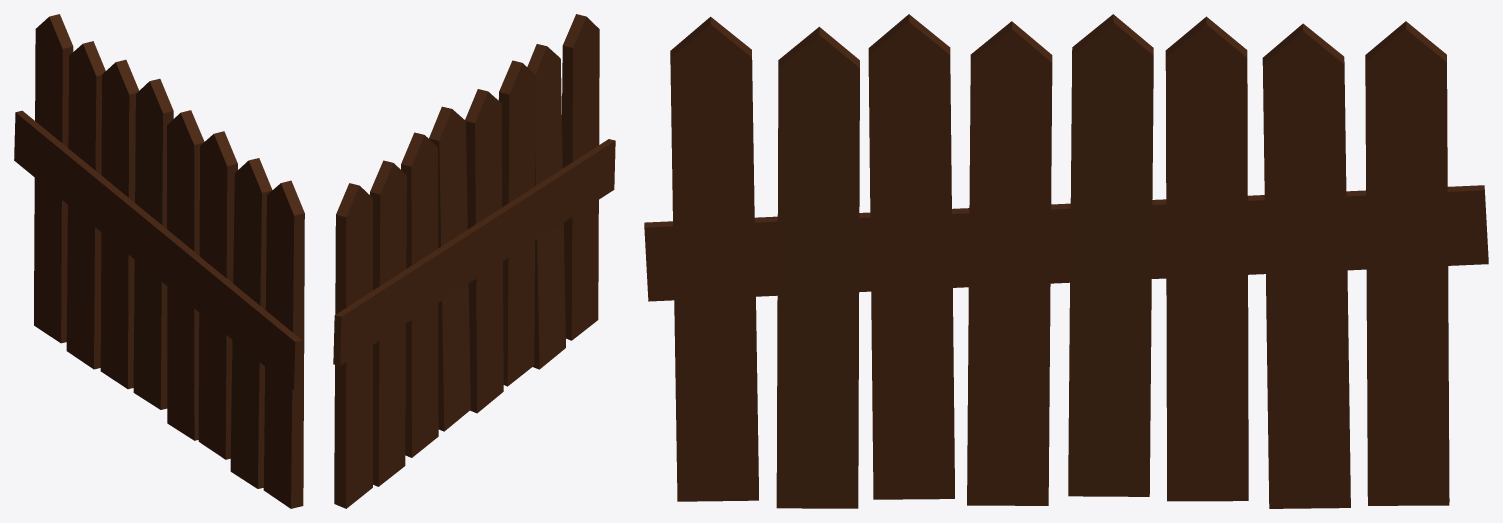
The model's file is fence.glb.
3 renders of one model, left to right at view 1: azimuth 30°, elevation 25°; view 2: azimuth 150°, elevation 25°; view 3: azimuth 270°, elevation 25°, orthographic. The views are drawn at different scales.
Visible parts, largest first — view 1: Cube.008, Cube, Cube.002, Cube.005, Cube.007, Cube.006, Cube.001, Cube.004, Cube.003; view 2: Cube.008, Cube.007, Cube, Cube.003, Cube.006, Cube.005, Cube.002, Cube.004, Cube.001; view 3: Cube.002, Cube.006, Cube, Cube.007, Cube.003, Cube.005, Cube.004, Cube.001, Cube.008.
Part boxes in pixels (left/top/right/bottom): Cube.008: left=14, top=110, right=302, bottom=389; Cube: left=263, top=180, right=304, bottom=508; Cube.002: left=198, top=131, right=237, bottom=459; Cube.005: left=100, top=59, right=139, bottom=389; Cube.007: left=34, top=14, right=73, bottom=343; Cube.006: left=66, top=41, right=105, bottom=369; Cube.001: left=230, top=158, right=272, bottom=488; Cube.004: left=133, top=78, right=173, bottom=409; Cube.003: left=167, top=110, right=204, bottom=440; Cube.008: left=333, top=139, right=615, bottom=365; Cube.007: left=334, top=183, right=372, bottom=508; Cube: left=562, top=14, right=599, bottom=340; Cube.003: left=465, top=89, right=503, bottom=413; Cube.006: left=370, top=160, right=406, bottom=486; Cube.005: left=401, top=132, right=438, bottom=457; Cube.002: left=498, top=60, right=535, bottom=386; Cube.004: left=429, top=106, right=470, bottom=431; Cube.001: left=527, top=44, right=565, bottom=369; Cube.002: left=868, top=14, right=954, bottom=499; Cube.006: left=1262, top=23, right=1350, bottom=508; Cube: left=670, top=16, right=758, bottom=501; Cube.007: left=1365, top=21, right=1449, bottom=505; Cube.003: left=967, top=21, right=1052, bottom=505; Cube.005: left=1165, top=16, right=1248, bottom=501; Cube.004: left=1068, top=14, right=1153, bottom=496; Cube.001: left=776, top=26, right=859, bottom=508; Cube.008: left=644, top=185, right=1488, bottom=301.
Size of what is drawn, in the model's own units: 0.0993 by 1.4 by 2.17.
